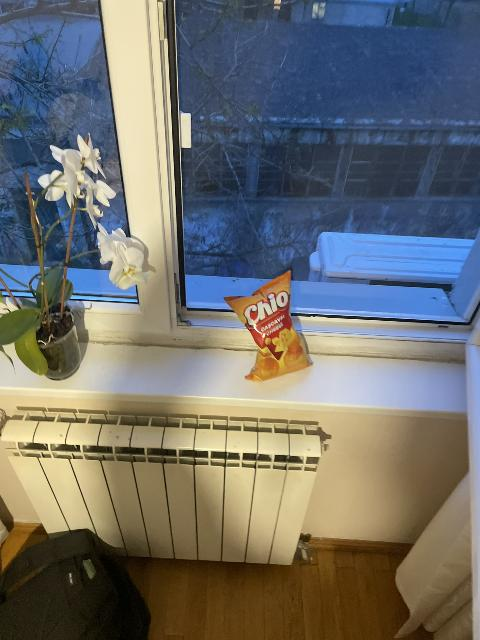Chio Cascaval 125g: (224, 270, 313, 379)
